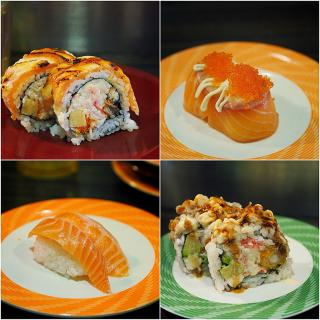Sushi: (169, 201, 295, 299), (185, 50, 282, 140), (26, 210, 129, 294), (49, 54, 141, 146), (0, 45, 80, 132)
